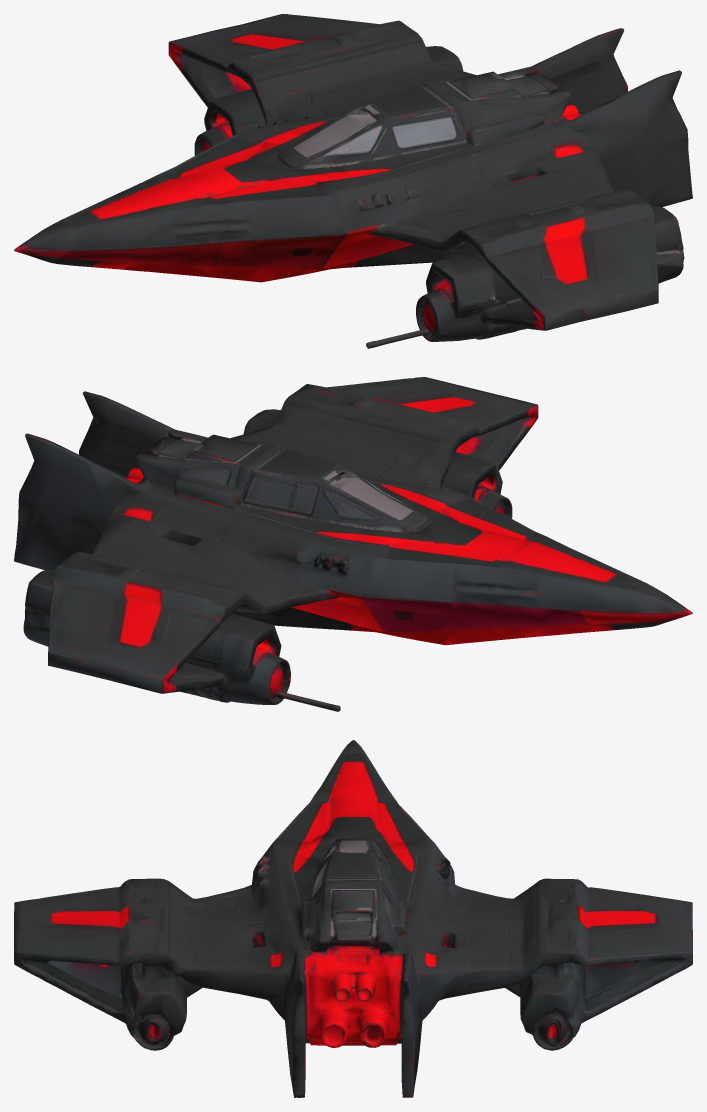
The model's file is hostile_fighter.repacked.glb.
3 views of the same model, one above another, from view 1: azimuth 30°, elevation 25°; view 2: azimuth 150°, elevation 25°; view 3: azimuth 270°, elevation 25° (orthographic). The views are drawn at different scales.
Visible parts, largest first — view 1: Mesh1.0; view 2: Mesh1.0; view 3: Mesh1.0.
Boxes of the visible parts, <box> form: Mesh1.0: <box>14,14,692,348</box>; Mesh1.0: <box>14,377,692,711</box>; Mesh1.0: <box>14,740,692,1097</box>.
Size of the model in its own units: 1.89 by 0.4036 by 1.91.
1 material, 1 textured.
